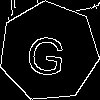G: (24, 26, 69, 77)
